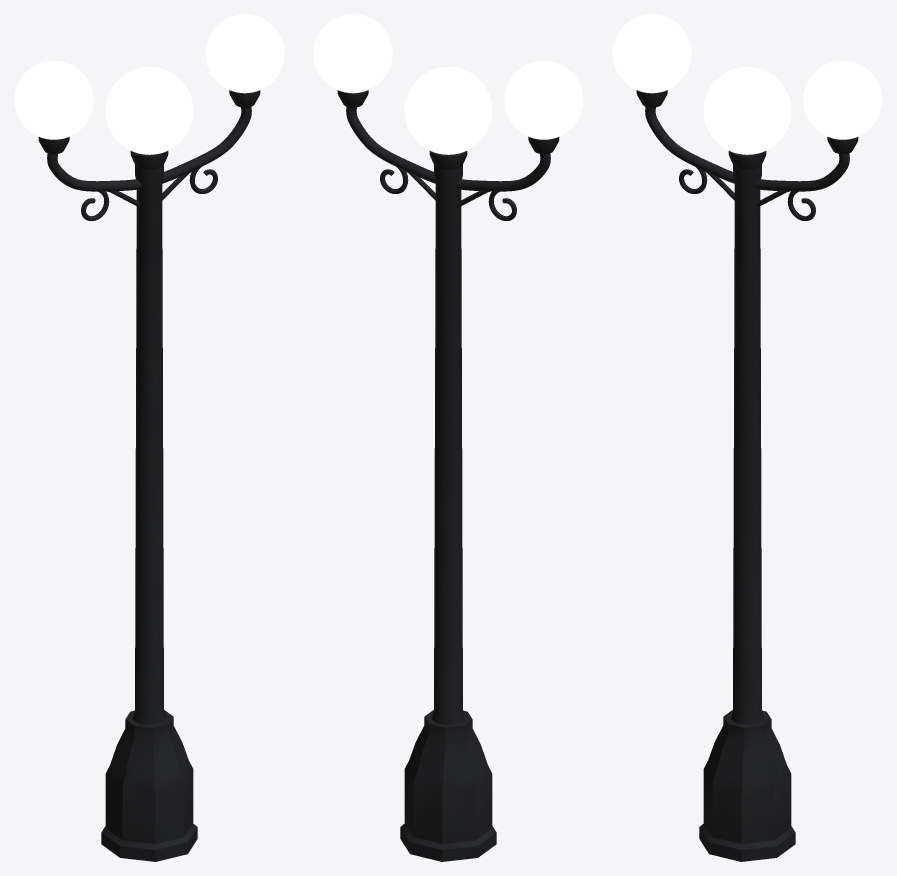
The model's file is triple-globe-lamp-post.glb.
3 renders of one model, left to right at view 1: azimuth 30°, elevation 25°; view 2: azimuth 150°, elevation 25°; view 3: azimuth 330°, elevation 25°, orthographic.
Visible parts, largest first — view 1: Triple_Globe_Lamp_Post; view 2: Triple_Globe_Lamp_Post; view 3: Triple_Globe_Lamp_Post.
Boxes of the visible parts, <box> form: Triple_Globe_Lamp_Post: <box>14,14,284,861</box>; Triple_Globe_Lamp_Post: <box>313,14,583,861</box>; Triple_Globe_Lamp_Post: <box>612,14,882,861</box>.
Size of the model in its own units: 1.36 by 4.01 by 0.4065.
Materials: 2 (1 with a texture image).
